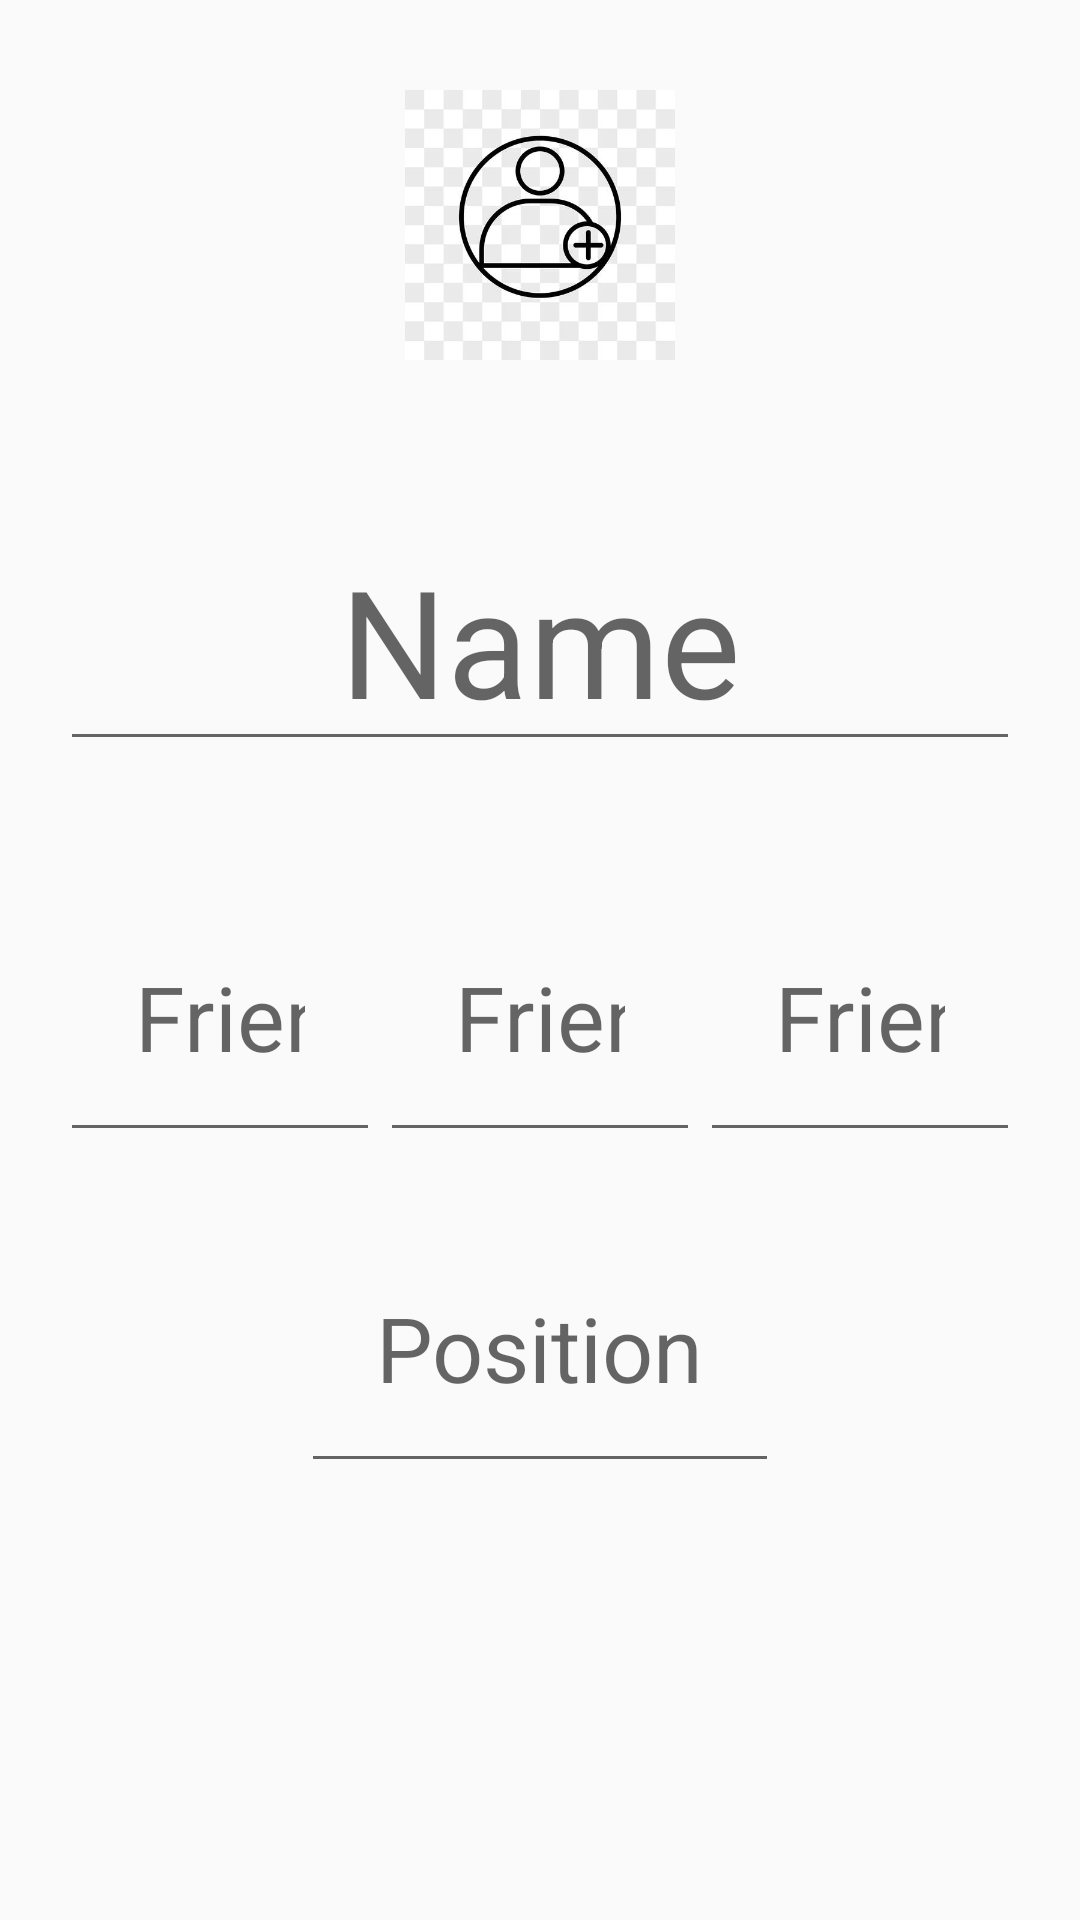

Screen size 1080w x 1920h. Icon name, then its box in pixels as bbox(x1, y1, x2, y2):
profile: bbox(458, 135, 638, 305)
